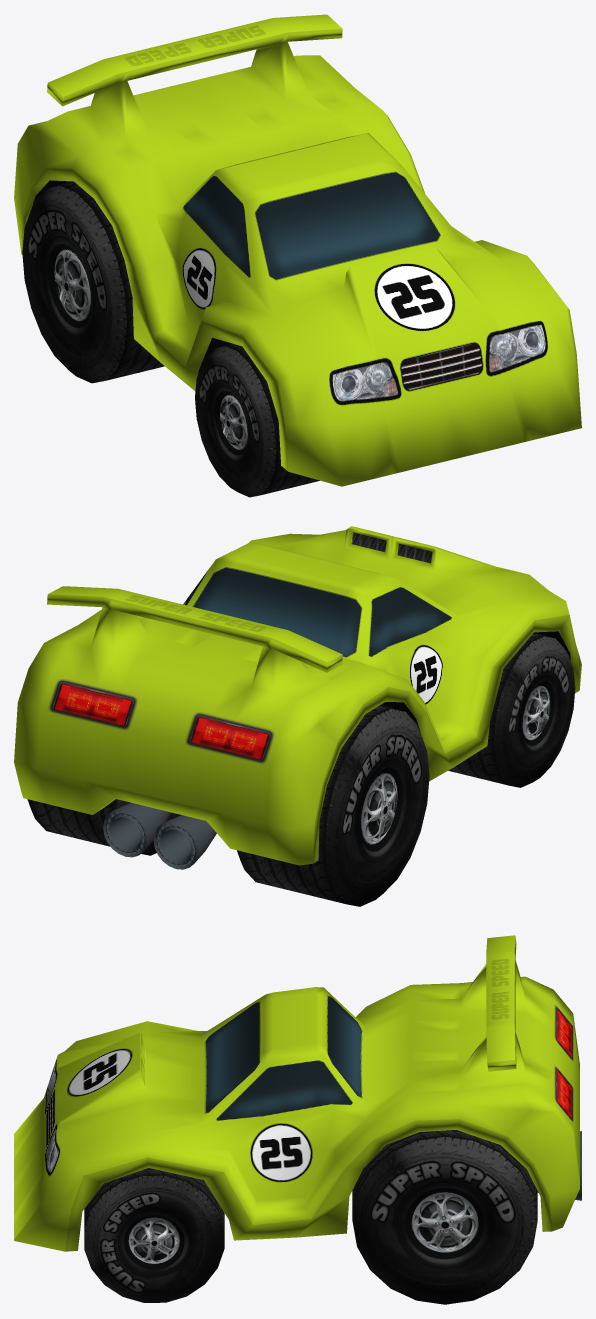
The model's file is sports-car-01.fbx.
3 views of the same model, one above another, from view 1: azimuth 30°, elevation 25°; view 2: azimuth 150°, elevation 25°; view 3: azimuth 270°, elevation 25° (orthographic). The views are drawn at different scales.
Parts seen in each view (by area): view 1: body, WheelBR, WheelFR; view 2: body, WheelBR, WheelFR, muffler1, WheelBL, muffler; view 3: body, WheelBL, WheelFL.
Part boxes in pixels (<box>): body: <box>14,14,581,486</box>; WheelBR: <box>22,181,164,383</box>; WheelFR: <box>195,343,319,497</box>; body: <box>14,526,581,865</box>; WheelBR: <box>237,705,429,906</box>; WheelFR: <box>448,633,575,787</box>; muffler1: <box>103,803,171,857</box>; WheelBL: <box>27,799,181,855</box>; muffler: <box>153,815,216,869</box>; body: <box>14,935,579,1251</box>; WheelBL: <box>352,1130,537,1304</box>; WheelFL: <box>84,1168,224,1302</box>.
Size of the model in its own units: 13.93 by 11.41 by 23.51.
